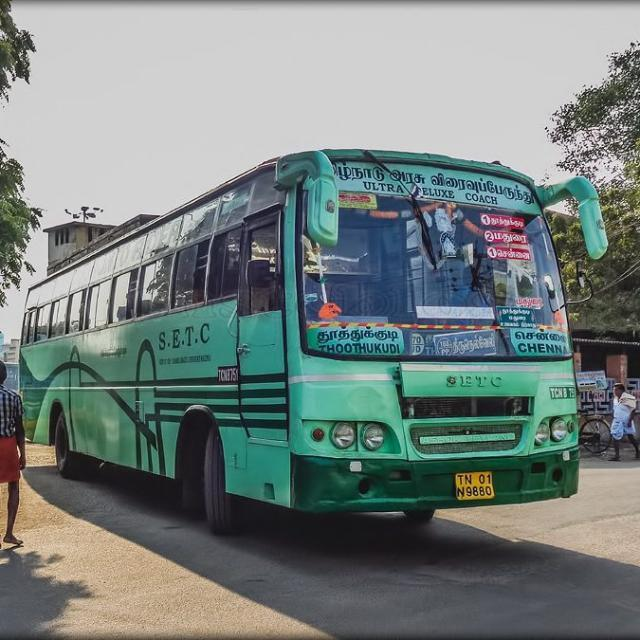Bus: (18, 145, 608, 516)
